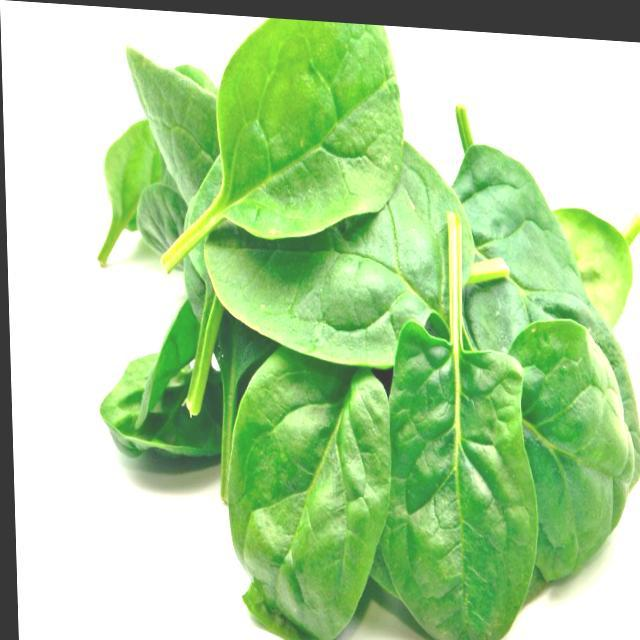Spinach: (73, 4, 640, 640)
